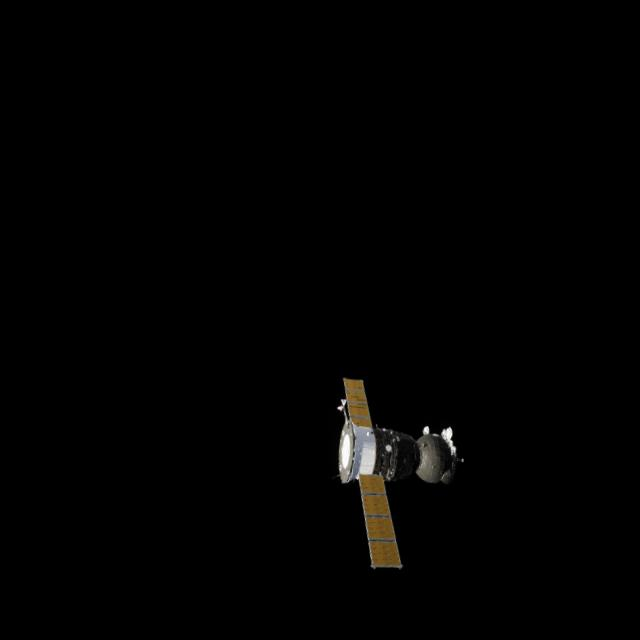Satellites revolving around earth: (318, 372, 472, 580)
